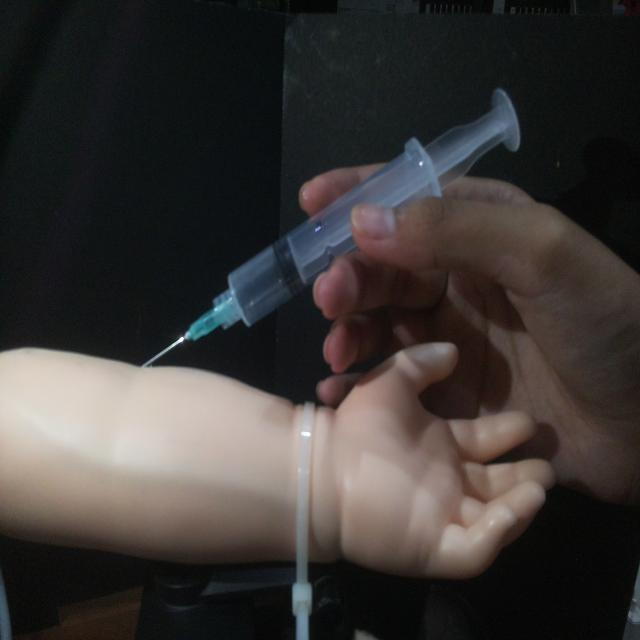28deg: (136, 83, 525, 371)
